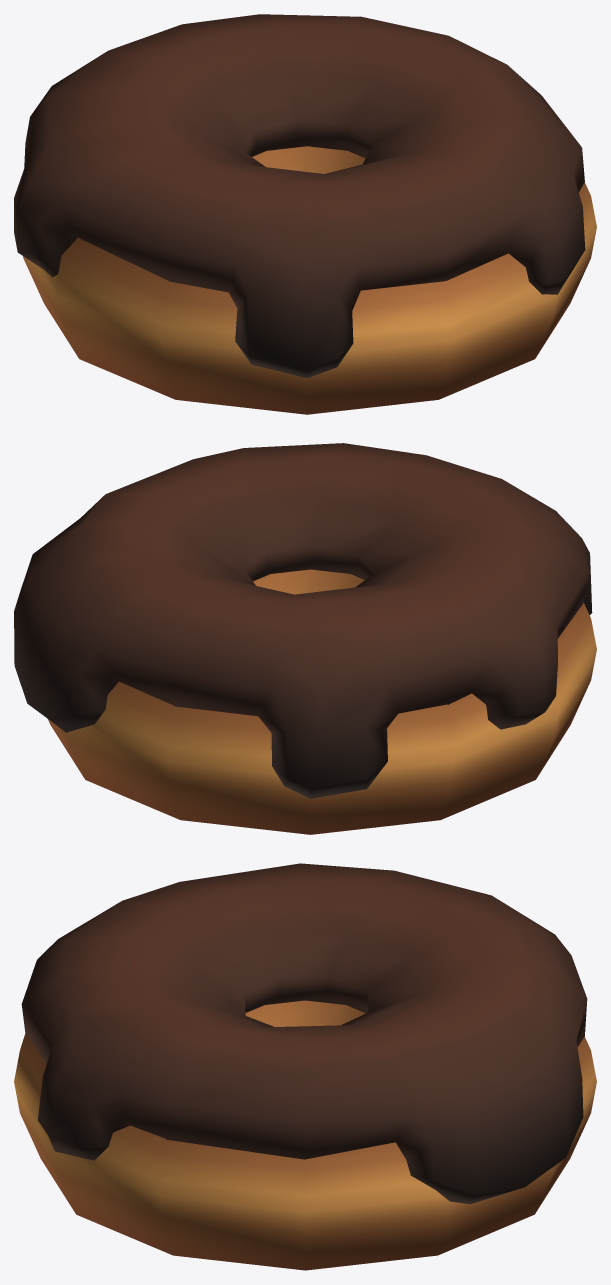
Rendered from m_Donut09.fbx.
3 renders of one model, top to bottom at view 1: azimuth 30°, elevation 25°; view 2: azimuth 150°, elevation 25°; view 3: azimuth 270°, elevation 25°, orthographic.
Parts seen in each view (by area): view 1: m_Donut09; view 2: m_Donut09; view 3: m_Donut09.
Boxes of the visible parts, x1,y1,x2,y2 form: m_Donut09: (14,14,596,414); m_Donut09: (14,443,596,834); m_Donut09: (14,863,596,1270).
Bounding box in the file's own units: 12.47 × 5.35 × 12.16.
